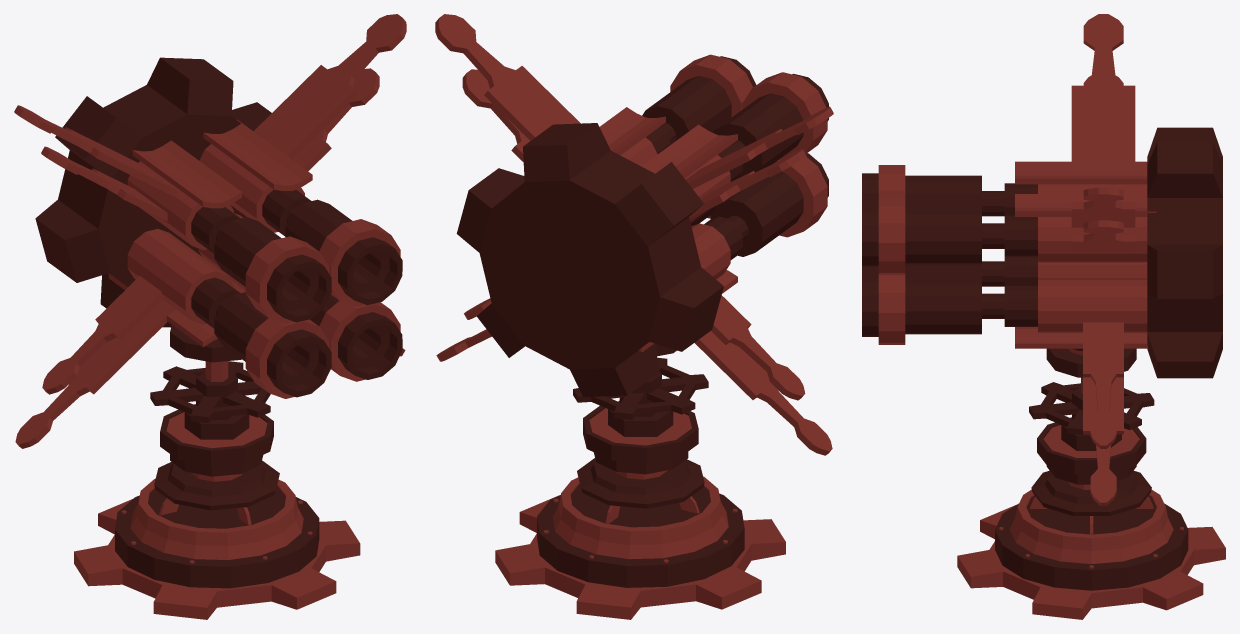
The model's file is Bomber_2.glb.
3 renders of one model, left to right at view 1: azimuth 30°, elevation 25°; view 2: azimuth 150°, elevation 25°; view 3: azimuth 270°, elevation 25°, orthographic. The views are drawn at different scales.
Visible parts, largest first — view 1: Bomber_2_Gun, Bomber_2_Base, Bomber_2_Mid; view 2: Bomber_2_Gun, Bomber_2_Base, Bomber_2_Mid; view 3: Bomber_2_Gun, Bomber_2_Base, Bomber_2_Mid.
Boxes of the visible parts, x1,y1,x2,y2 form: Bomber_2_Gun: [14, 14, 406, 448]; Bomber_2_Base: [74, 404, 360, 619]; Bomber_2_Mid: [150, 325, 270, 439]; Bomber_2_Gun: [435, 14, 833, 455]; Bomber_2_Base: [495, 405, 785, 619]; Bomber_2_Mid: [573, 344, 708, 436]; Bomber_2_Gun: [862, 14, 1222, 505]; Bomber_2_Base: [957, 417, 1225, 619]; Bomber_2_Mid: [1029, 348, 1154, 450].
Size of the model in its own units: 1.44 by 1.76 by 1.25.
